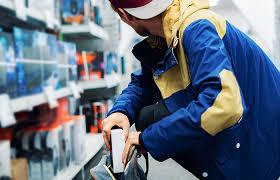shoplifting: (72, 105, 159, 180)
